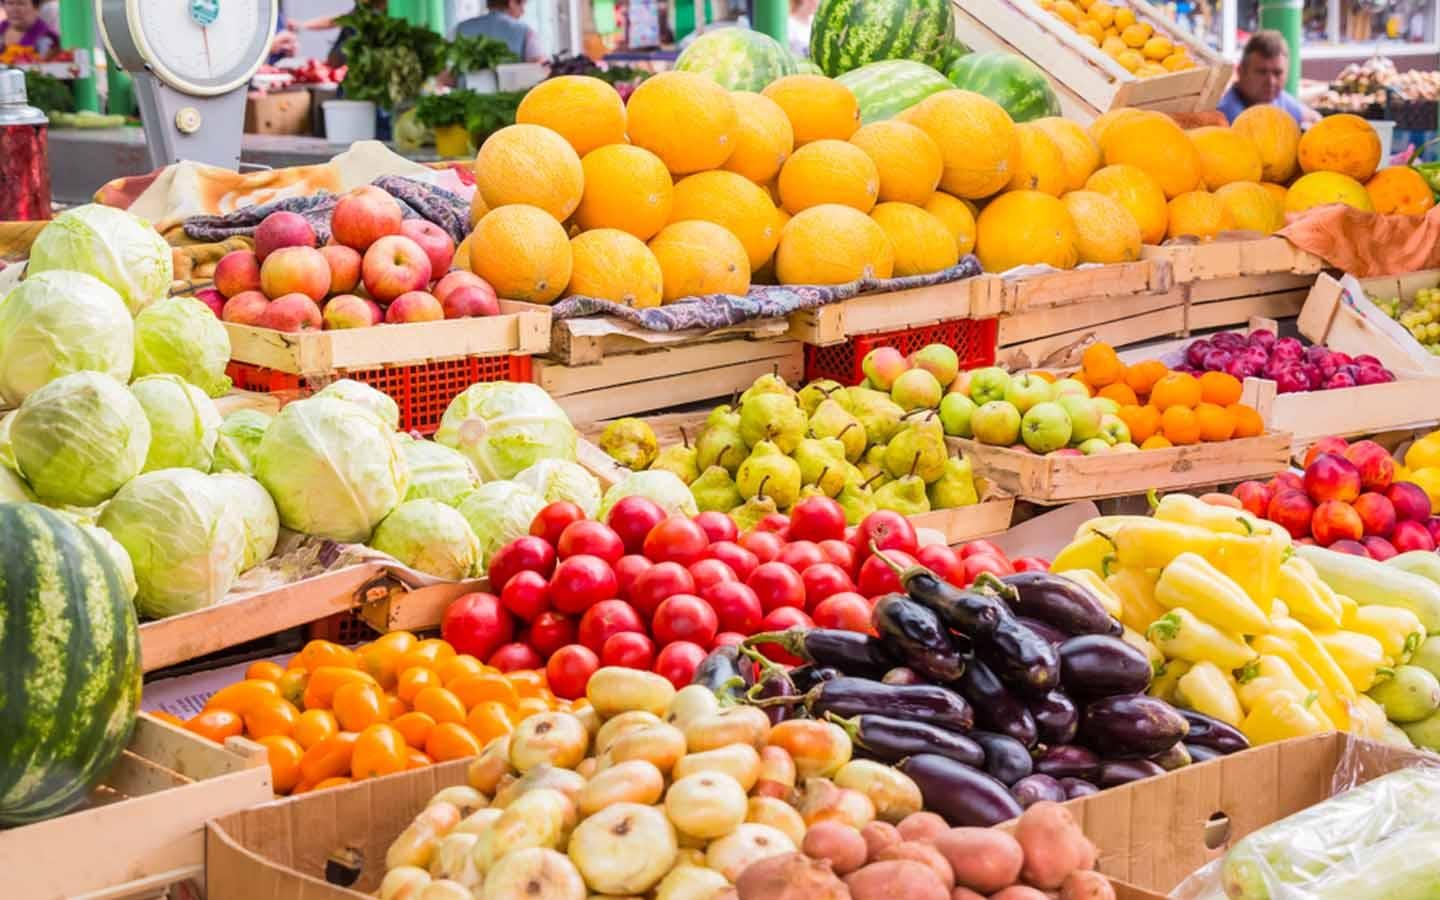cabbage: (121, 375, 605, 618), (0, 206, 231, 505)
eggplant: (763, 586, 1239, 803)
melon: (470, 75, 1434, 296)
onion: (380, 714, 847, 898)
pear: (610, 371, 978, 514)
red apple: (217, 185, 496, 328), (1231, 434, 1440, 552)
sweet pepper: (1048, 491, 1424, 754)
tomato: (445, 499, 762, 703), (690, 499, 1016, 635)
watermelon: (0, 506, 142, 828), (673, 0, 1063, 116)
